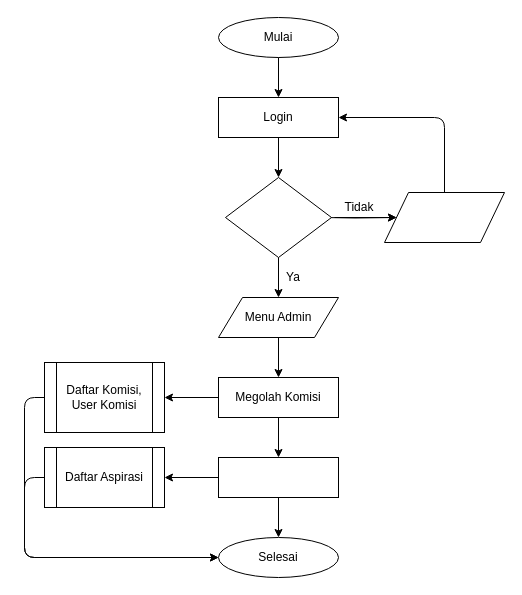
This 522x595 diagram has some shape labels left out. Each missing label, with the centre of its shape:
Megolah Aspirasi: point 278,477
Sukses?: point 278,217
Username atau password salah: point 444,217
